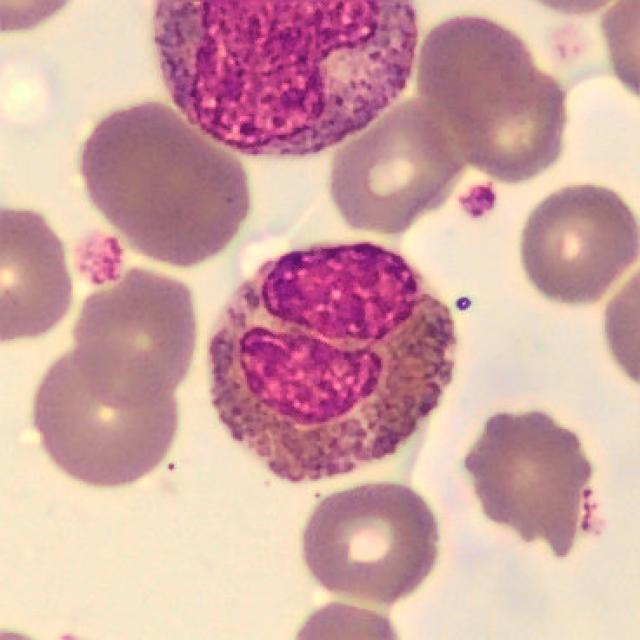Eosinofilo: (202, 240, 459, 484)
